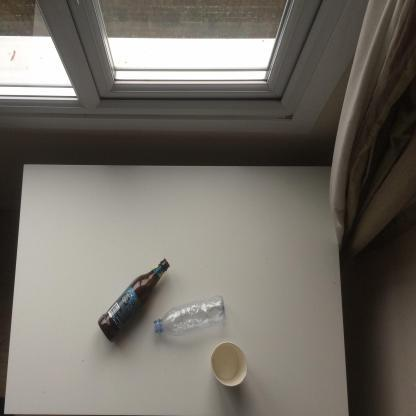cam: (98, 259, 171, 345)
karton: (211, 342, 249, 388)
plastik: (154, 296, 228, 340)
